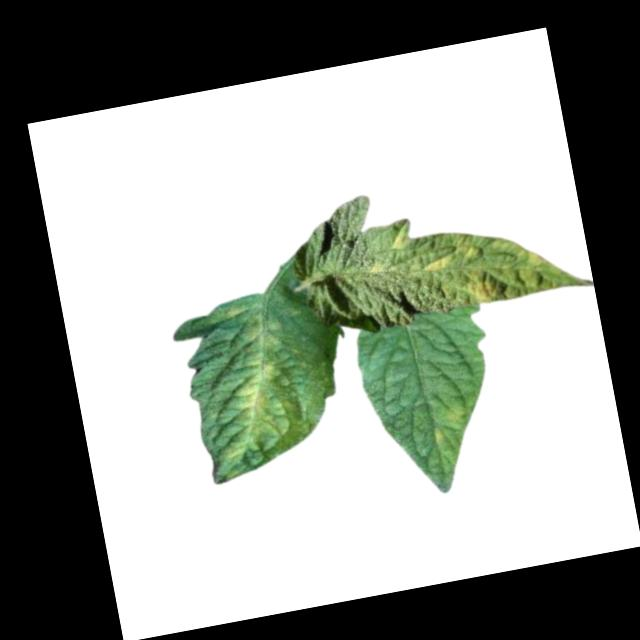Leaf_Mold: (198, 290, 311, 463), (413, 213, 576, 315), (427, 399, 476, 448)
